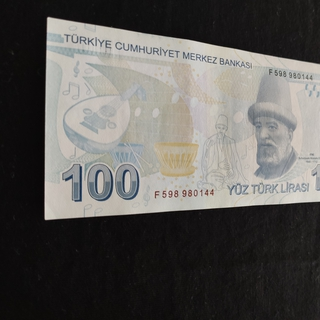100TLBack: (44, 16, 320, 221)
